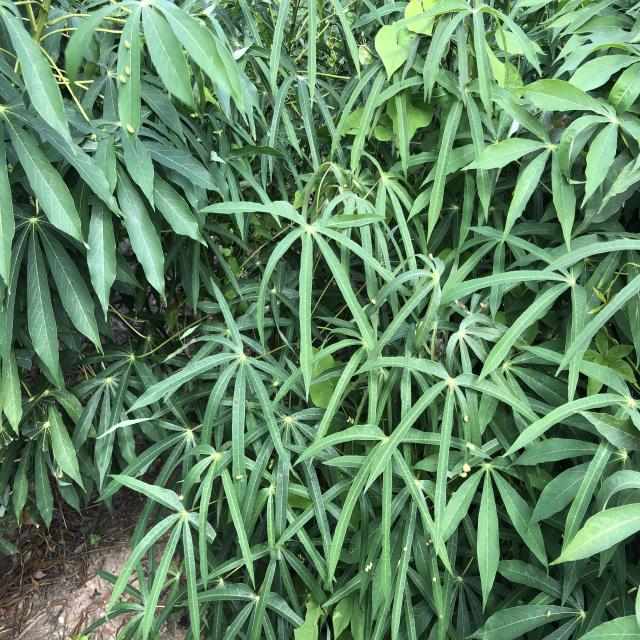Mosca: (458, 434, 484, 460), (450, 293, 474, 321), (453, 455, 473, 488), (112, 61, 132, 88), (170, 491, 191, 512), (475, 292, 489, 318), (539, 602, 559, 620), (358, 554, 374, 576), (231, 468, 249, 486), (456, 408, 474, 425), (427, 572, 443, 591), (121, 119, 136, 138), (118, 34, 134, 51), (417, 534, 433, 548), (395, 540, 411, 553)
